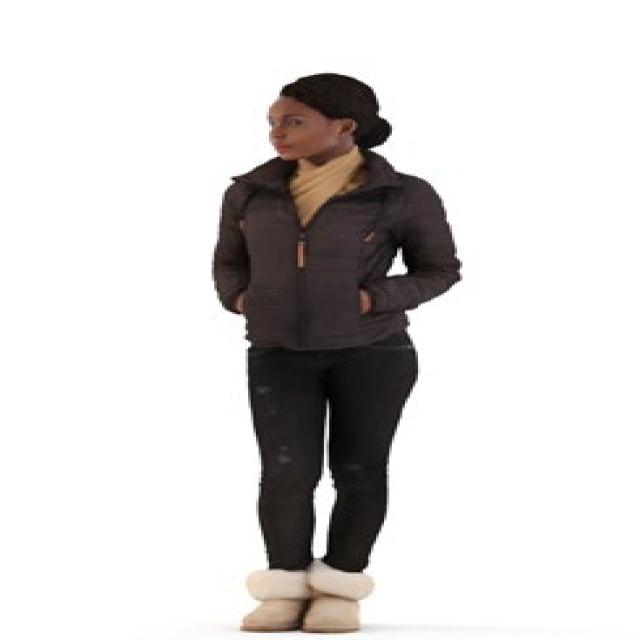standing: (207, 72, 461, 640)
